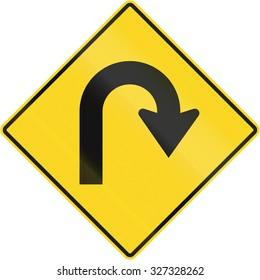Right Hair Pin Bend: (25, 25, 227, 227)
